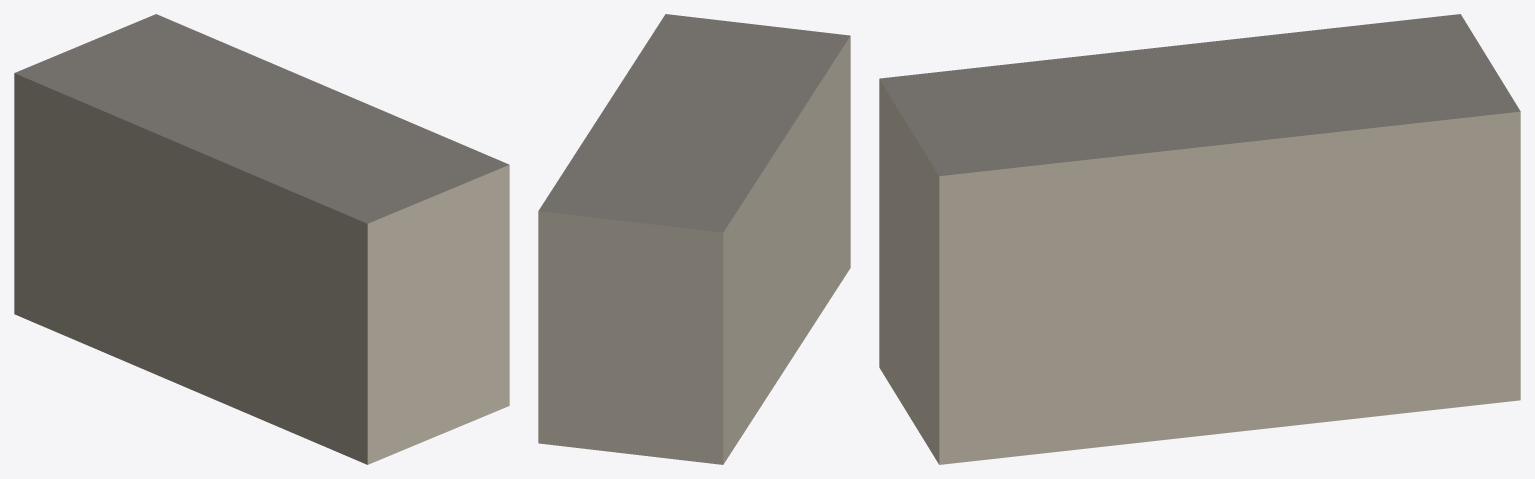
3 renders of one model, left to right at view 1: azimuth 30°, elevation 25°; view 2: azimuth 150°, elevation 25°; view 3: azimuth 270°, elevation 25°, orthographic. The views are drawn at different scales.
Visible parts, largest first — view 1: HP-w372180419; view 2: HP-w372180419; view 3: HP-w372180419.
Boxes of the visible parts, <box> form: HP-w372180419: <box>14,14,509,464</box>; HP-w372180419: <box>538,14,850,464</box>; HP-w372180419: <box>879,14,1520,464</box>.
Size of the model in its own units: 21.69 by 18 by 36.24.
